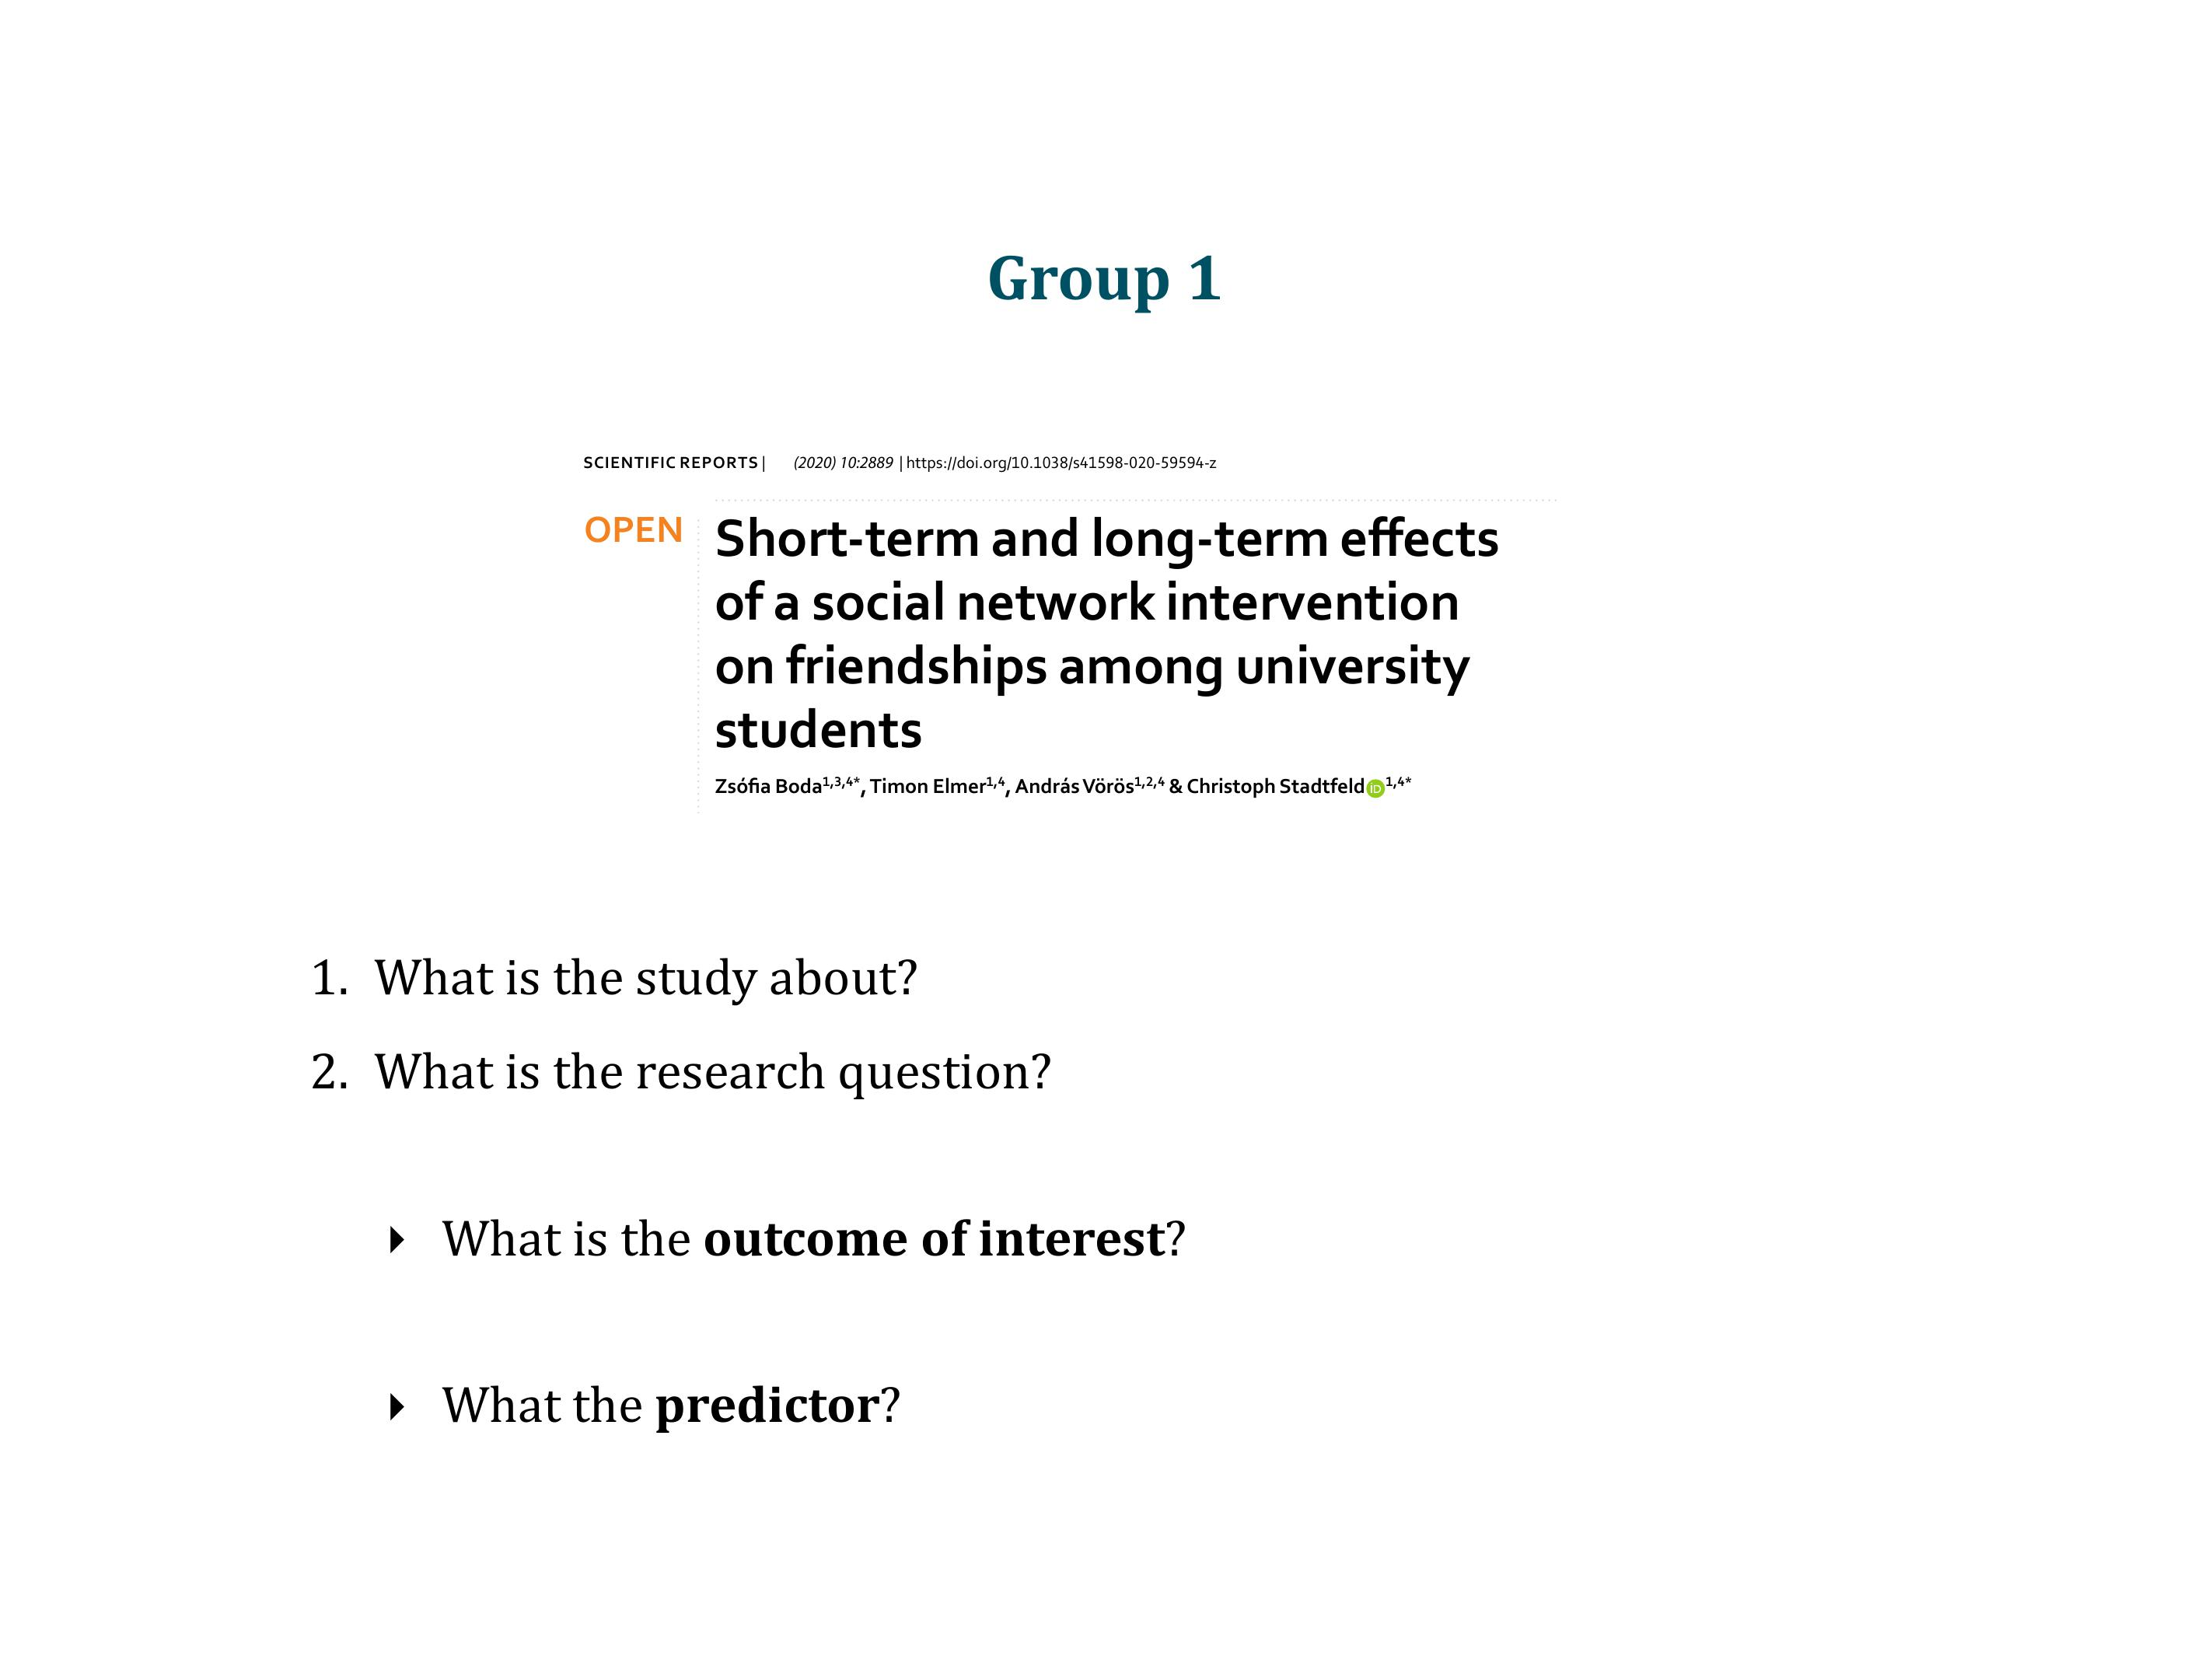Title: (938, 199, 1259, 331)
